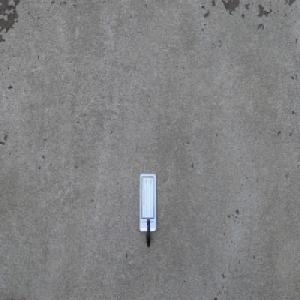LuggageTag: (138, 171, 157, 248)
